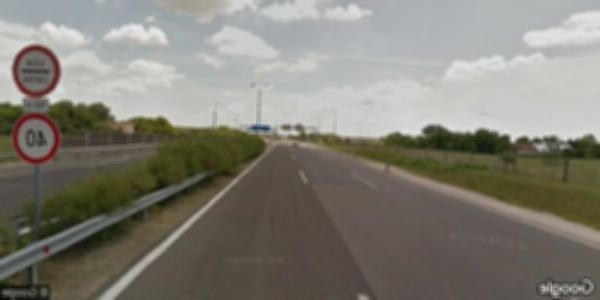b_speed_limit: (11, 113, 61, 165)
f_others: (11, 43, 61, 97)
